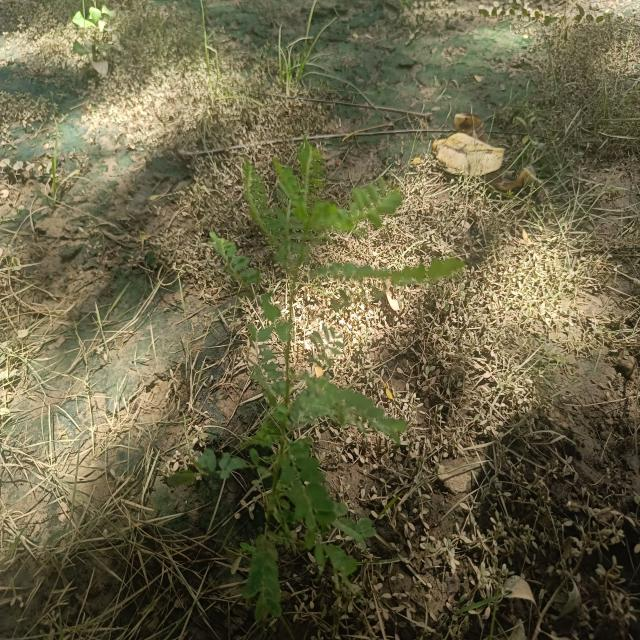weed: (186, 136, 476, 640)
